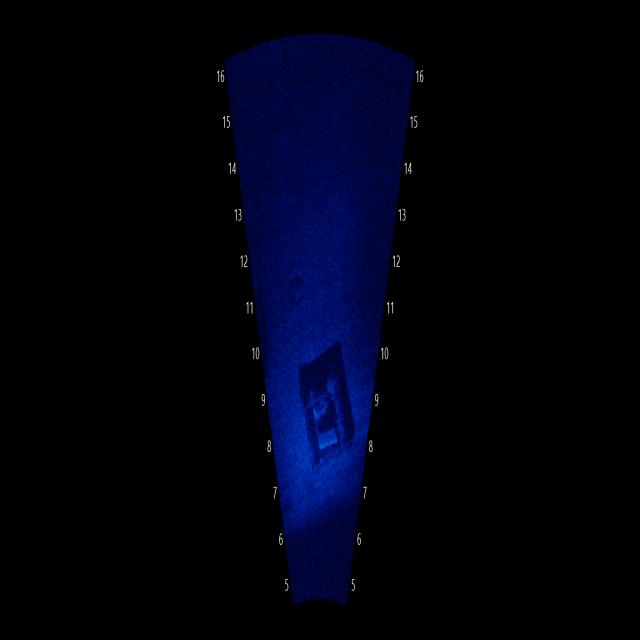square: (284, 330, 362, 470)
